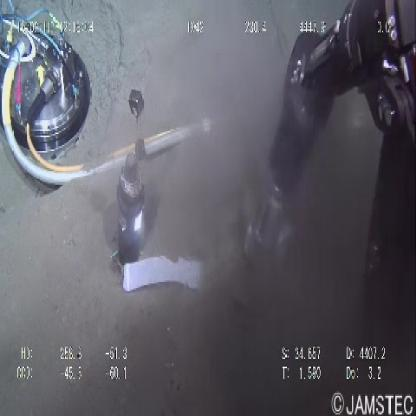Rov: (248, 1, 416, 277), (1, 1, 96, 196), (110, 86, 151, 278)
Rác: (118, 248, 209, 304)
